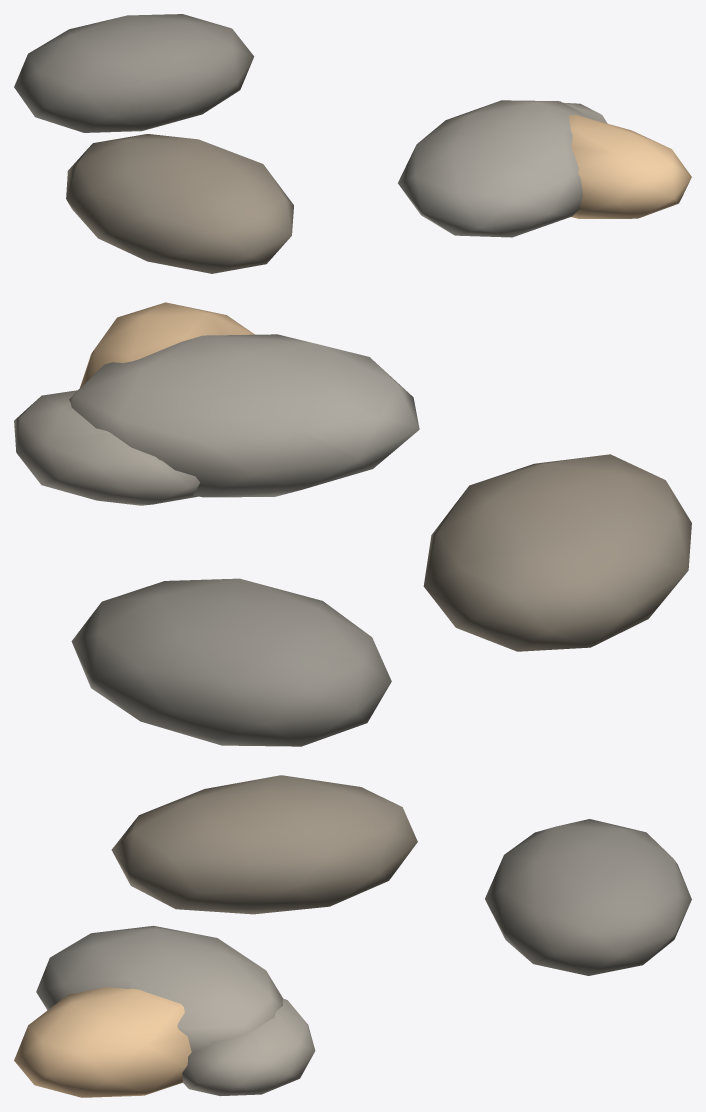
The model's file is shore_gc_pebbles_a.glb.
The picture shows the model from 3 angles, top to bottom: view 1: azimuth 30°, elevation 25°; view 2: azimuth 150°, elevation 25°; view 3: azimuth 270°, elevation 25°; orthographic projection. The views are drawn at different scales.
Visible parts, largest first — view 1: shore_gc_pebbles_a; view 2: shore_gc_pebbles_a; view 3: shore_gc_pebbles_a.
Boxes of the visible parts, <box> form: shore_gc_pebbles_a: <box>14,14,691,273</box>; shore_gc_pebbles_a: <box>14,302,691,746</box>; shore_gc_pebbles_a: <box>14,775,691,1097</box>.
Size of the model in its own units: 1.86 by 0.328 by 1.96.
